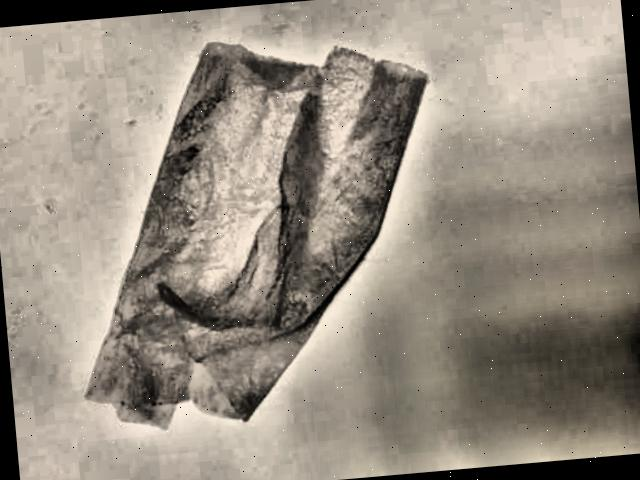Paper: (38, 5, 460, 449)
